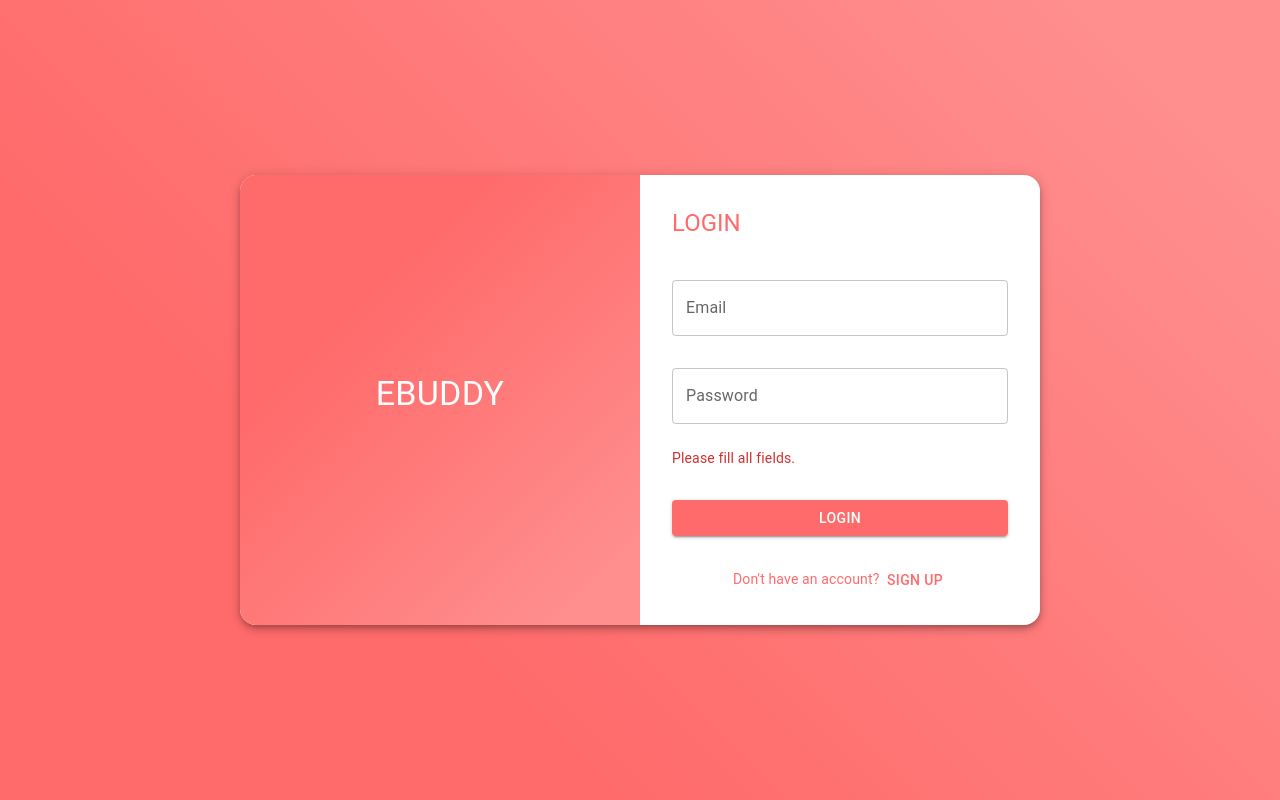
Test case: LoginPage › shows an error for invalid email
Type "invalid-email" into the field labelled "Email" at (840, 308), box [672,280,1008,336]
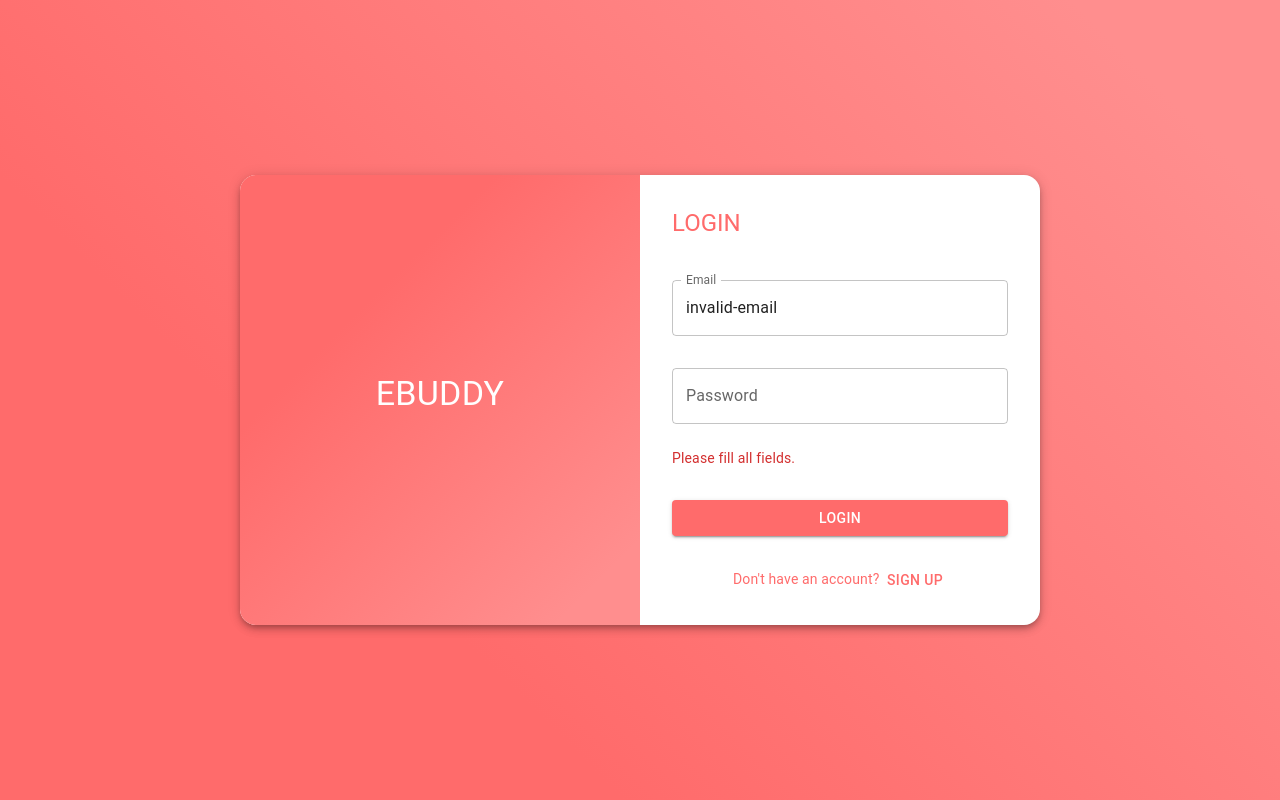
Type "password123" into the password field labelled "Password" at (840, 396), box [672,368,1008,424]
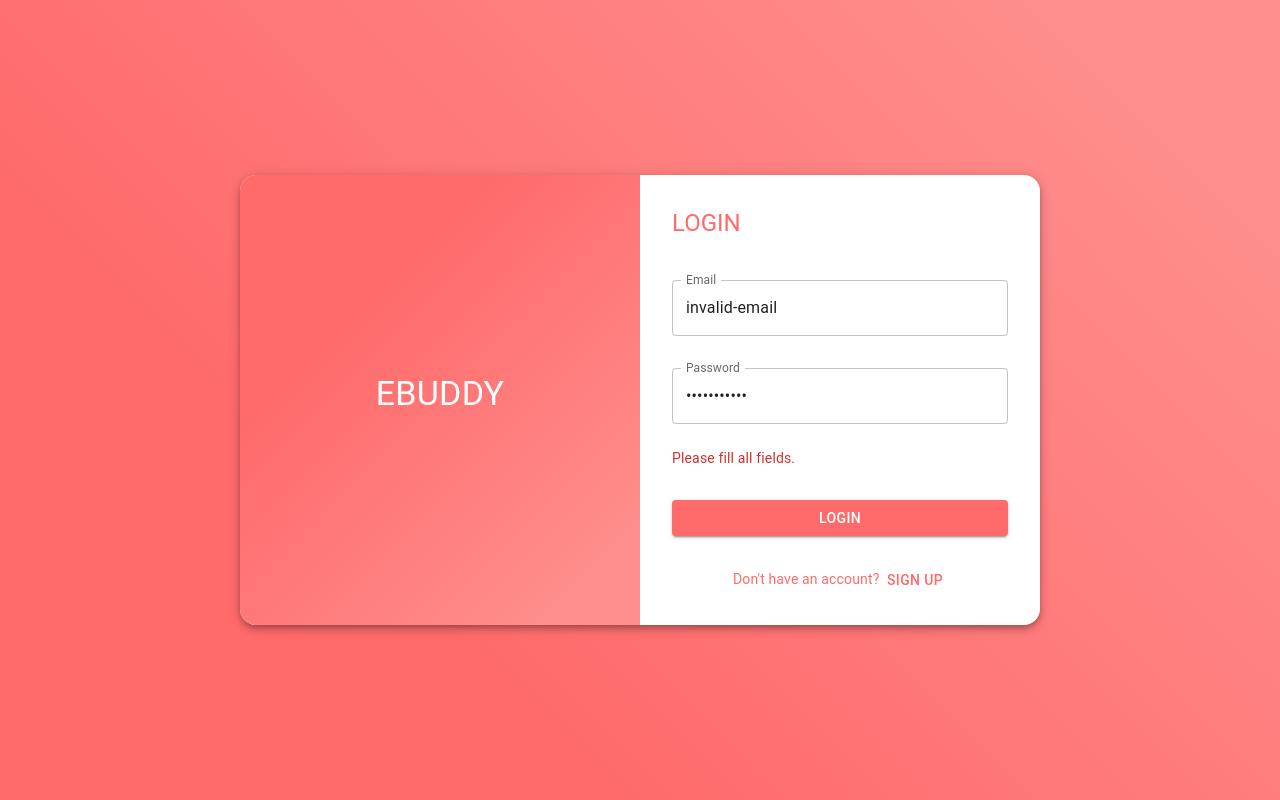
Click the button "LOGIN" at (840, 518), box [672,500,1008,536]
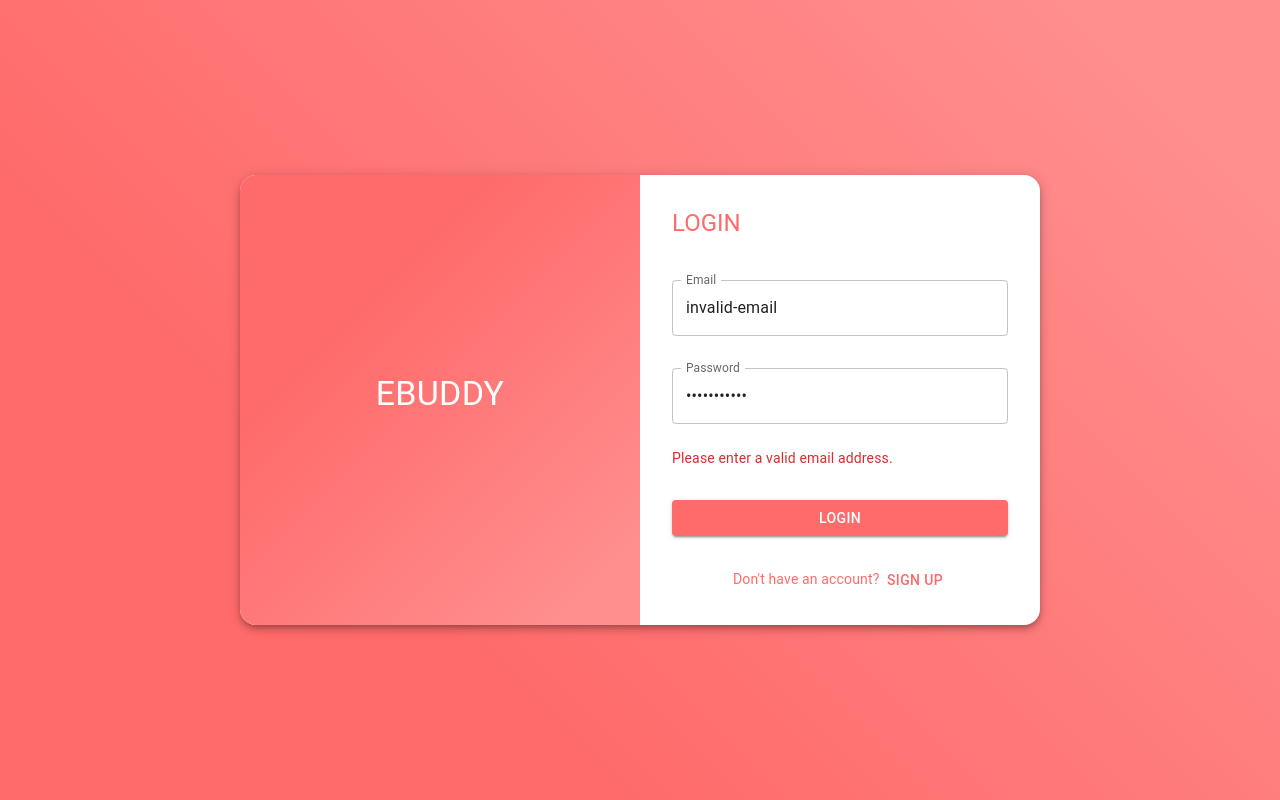
Result: the text "Please enter a valid email address." is shown at [672,450,893,466]
